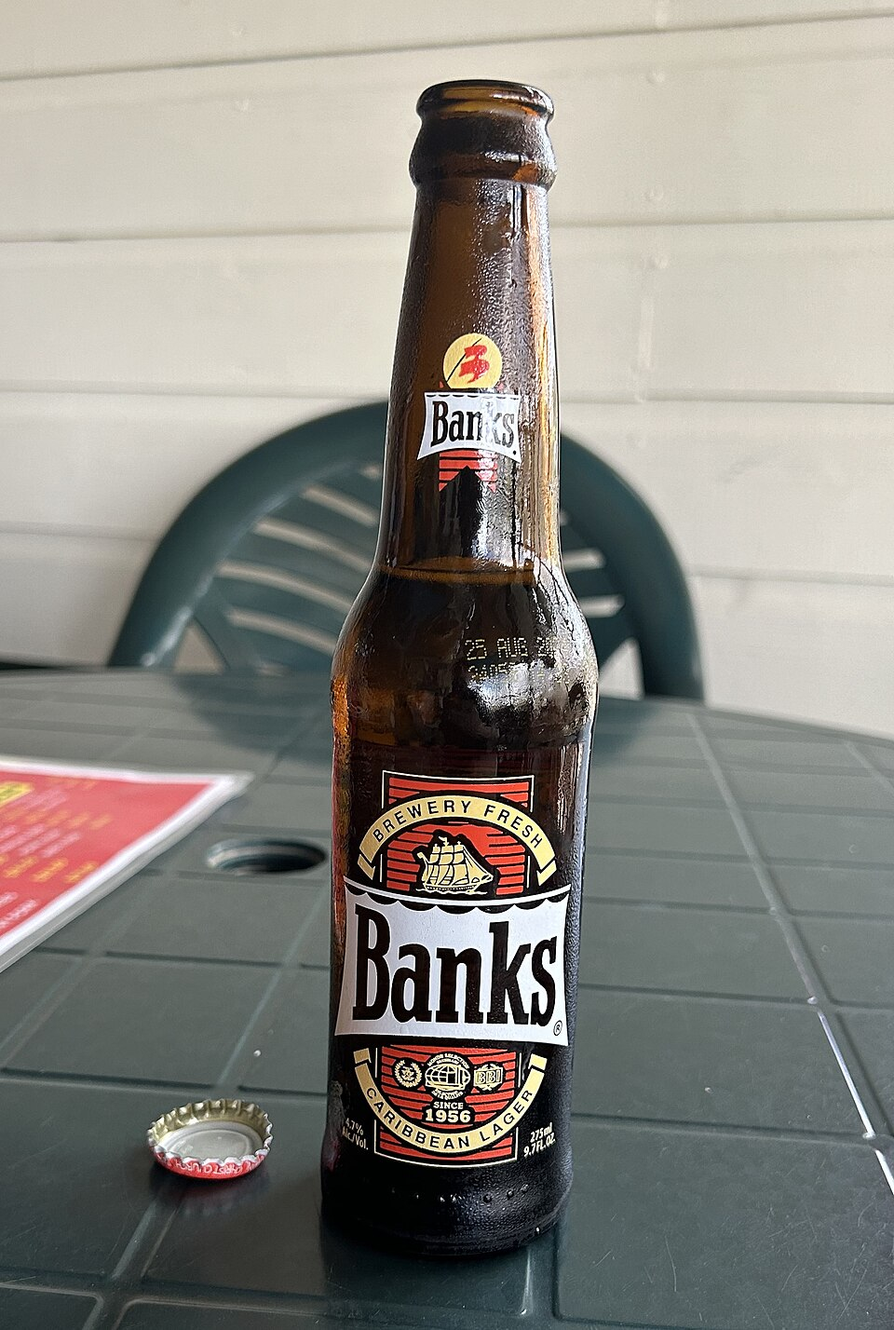beer-bottle: (314, 55, 612, 1285)
